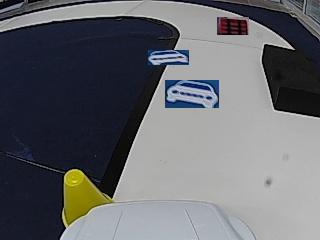block: (262, 44, 319, 116)
cone: (64, 169, 112, 205)
